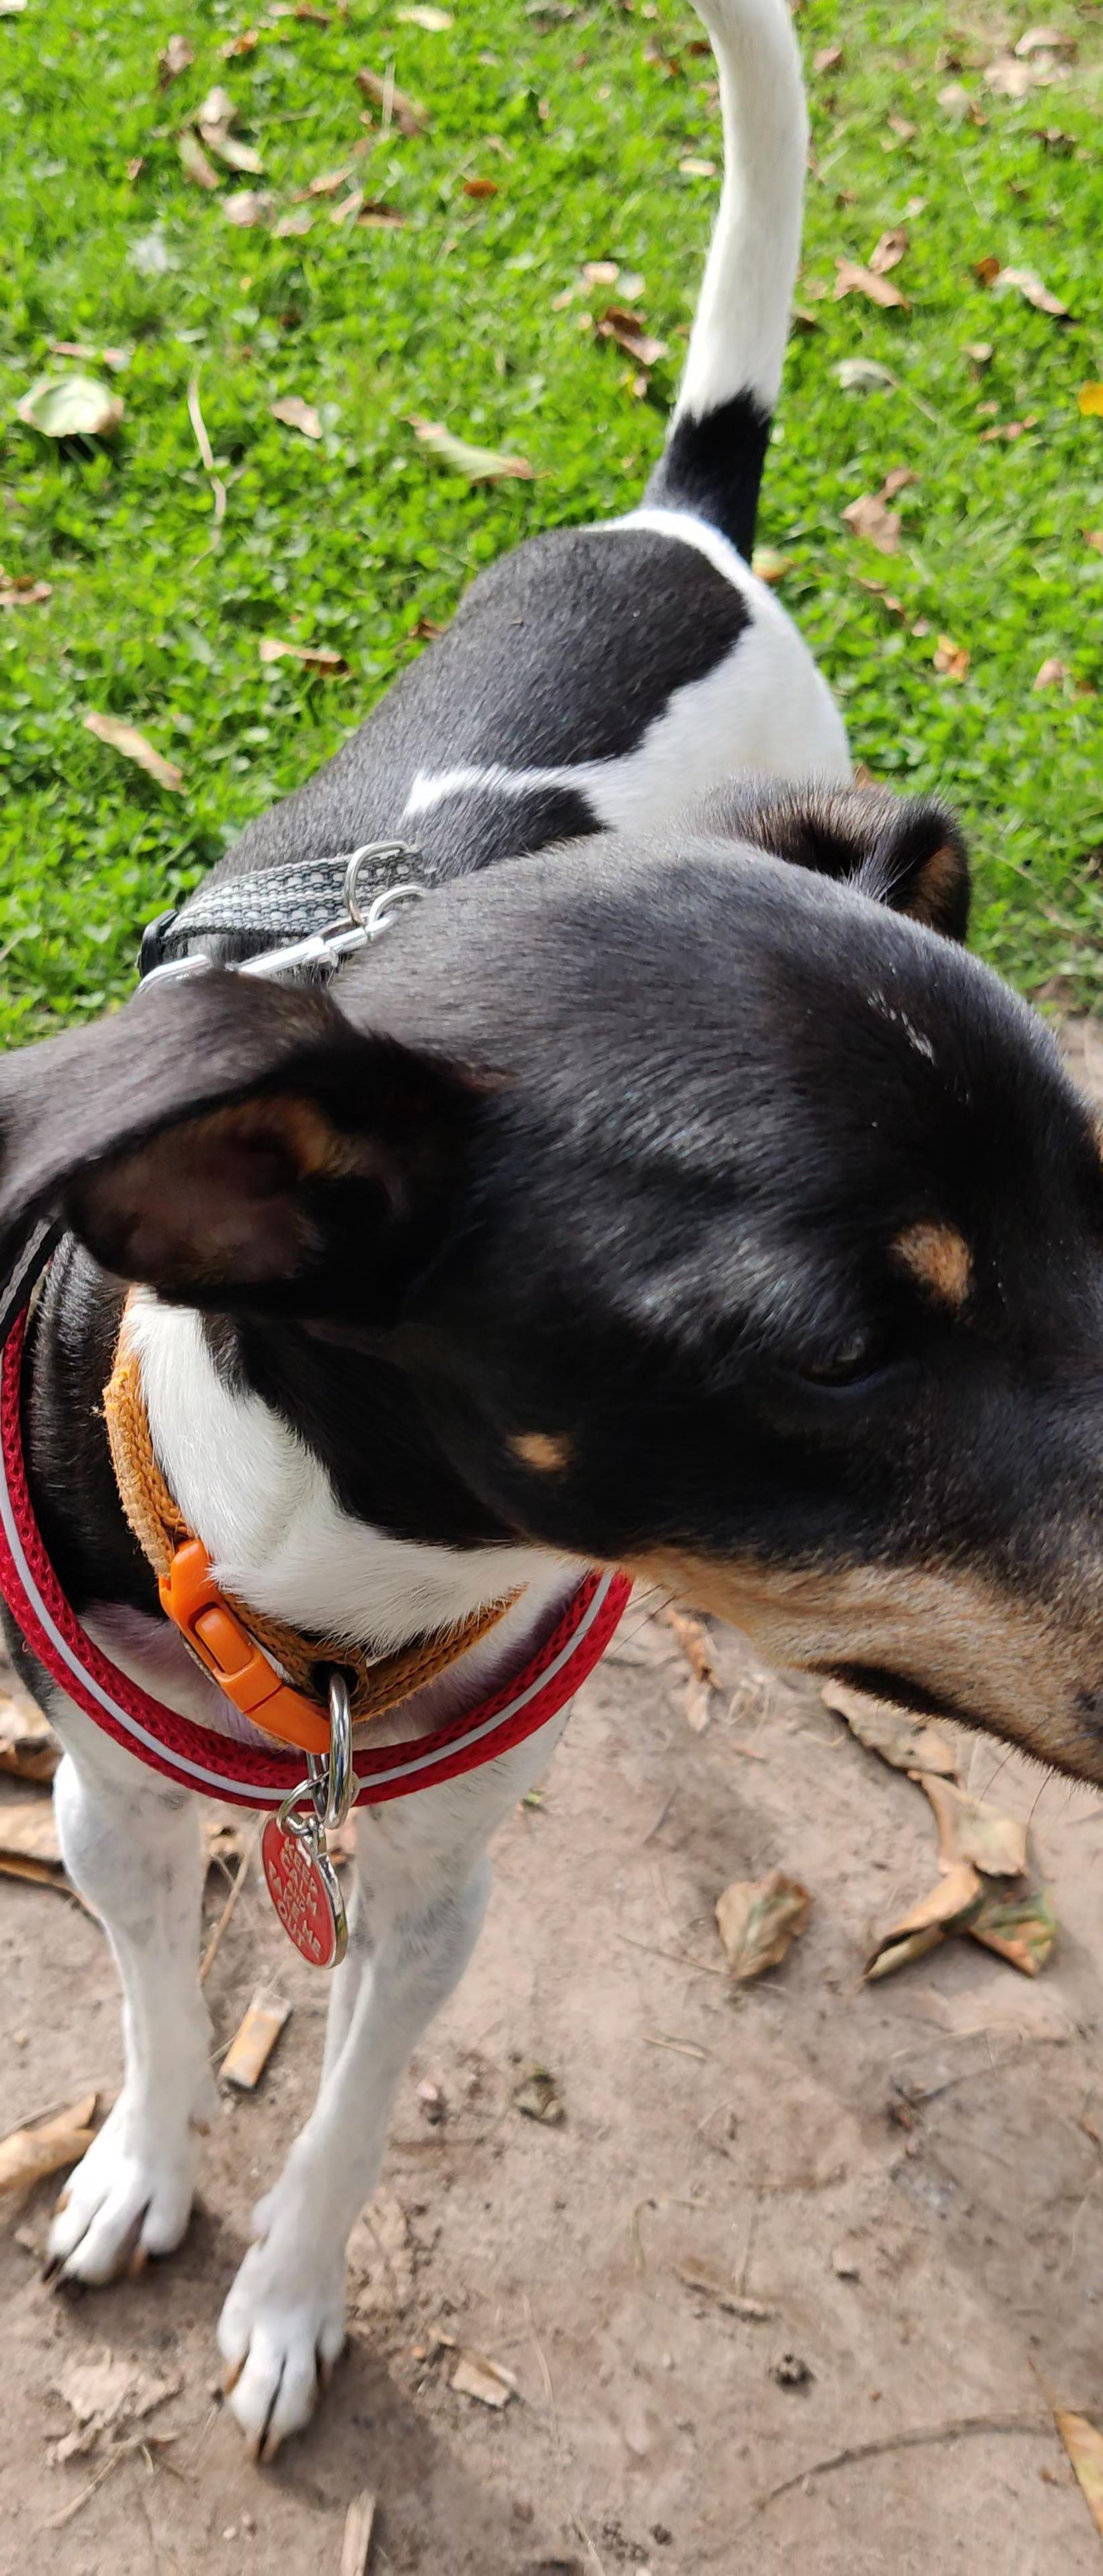Dog: (0, 0, 1103, 2471)
